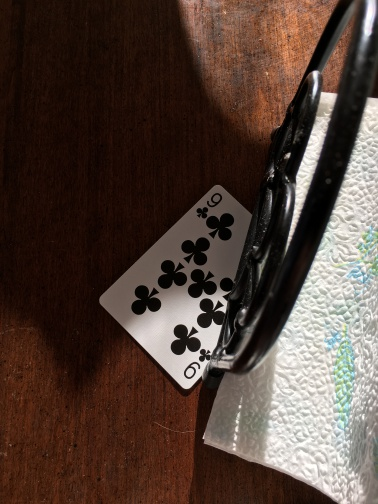nine: (97, 183, 248, 391)
